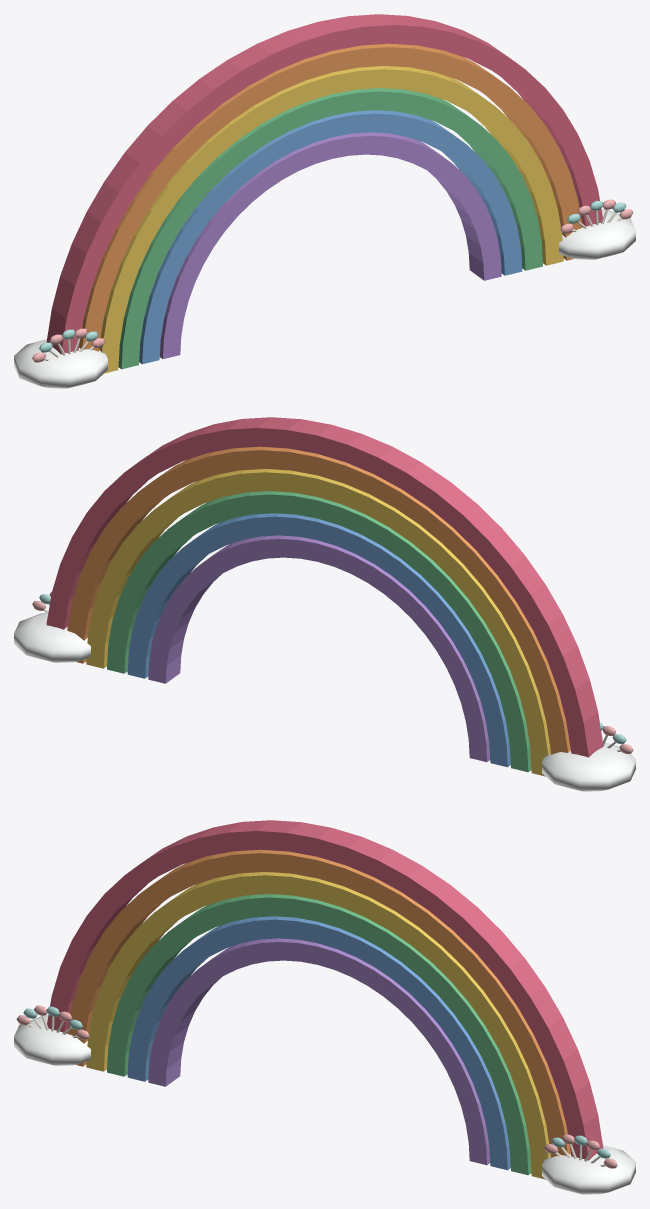
Rendered from lagoon_rainbow_race_arch.glb.
3 renders of one model, top to bottom at view 1: azimuth 30°, elevation 25°; view 2: azimuth 150°, elevation 25°; view 3: azimuth 330°, elevation 25°, orthographic.
Parts seen in each view (by area): view 1: lagoon_rainbow_race_arch; view 2: lagoon_rainbow_race_arch; view 3: lagoon_rainbow_race_arch.
Part boxes in pixels (x1,y1,x2,y2): lagoon_rainbow_race_arch: [14, 14, 635, 388]; lagoon_rainbow_race_arch: [14, 417, 635, 791]; lagoon_rainbow_race_arch: [14, 820, 635, 1194].
Bounding box in the file's own units: 15.39 × 6.95 × 1.9.
